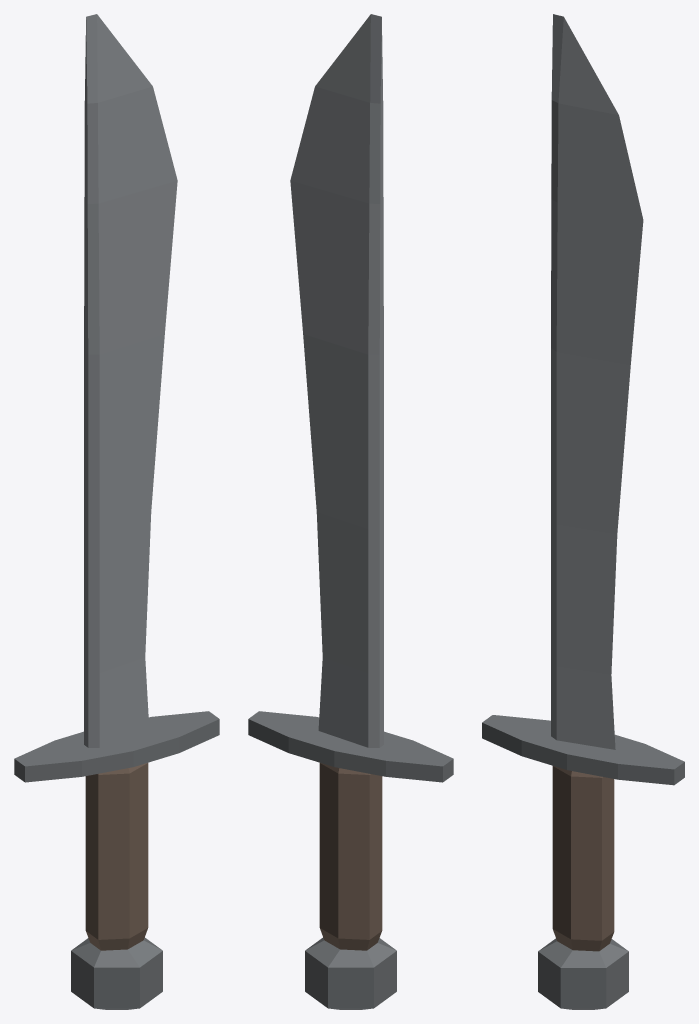
The model's file is Falchion.001.fbx.
The picture shows the model from 3 angles, left to right: view 1: azimuth 30°, elevation 25°; view 2: azimuth 150°, elevation 25°; view 3: azimuth 330°, elevation 25°; orthographic projection.
Parts seen in each view (by area): view 1: Falchion.001; view 2: Falchion.001; view 3: Falchion.001.
Part boxes in pixels (left/top/right/bottom): Falchion.001: left=14, top=14, right=219, bottom=1009; Falchion.001: left=248, top=14, right=453, bottom=1009; Falchion.001: left=482, top=14, right=684, bottom=1009.
Bounding box in the file's own units: 12.82 × 62.53 × 5.25.
